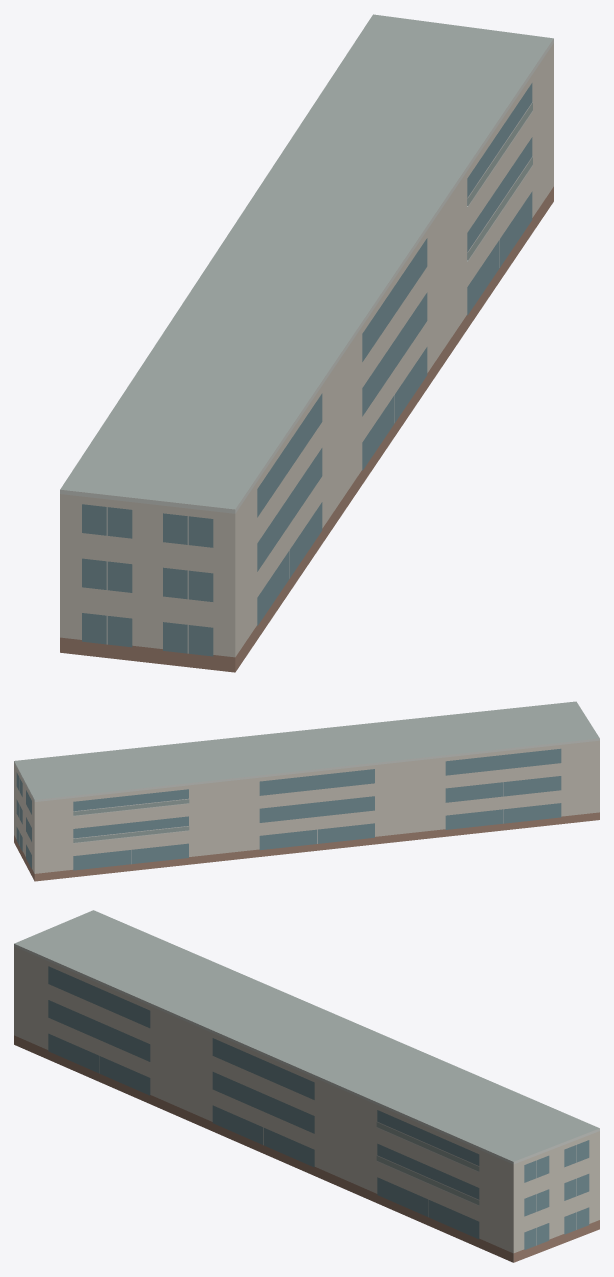
File: survey-upis-32756121.glb
3 views of the same model, one above another, from view 1: azimuth 30°, elevation 25°; view 2: azimuth 150°, elevation 25°; view 3: azimuth 270°, elevation 25° (orthographic). The views are drawn at different scales.
Parts seen in each view (by area): view 1: survey-upis-32756121.tmp; view 2: survey-upis-32756121.tmp; view 3: survey-upis-32756121.tmp.
Part boxes in pixels (left/top/right/bottom): survey-upis-32756121.tmp: left=60, top=14, right=553, bottom=672; survey-upis-32756121.tmp: left=14, top=701, right=599, bottom=881; survey-upis-32756121.tmp: left=14, top=910, right=599, bottom=1262.
Size of the model in its own units: 48.92 by 9.15 by 48.11.
